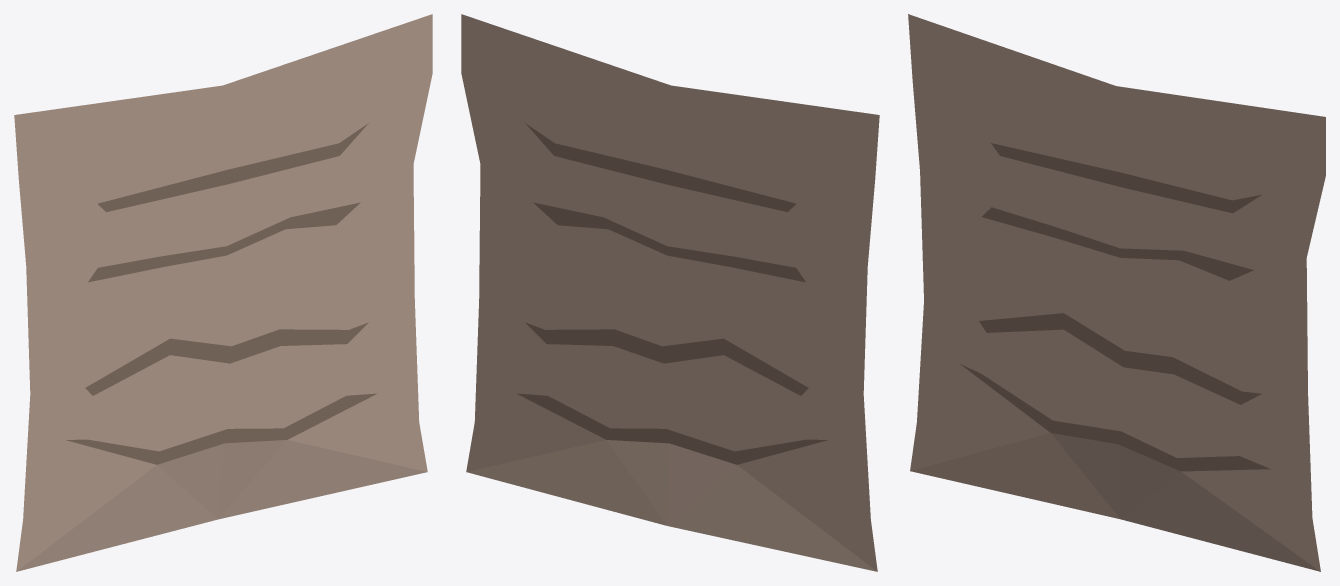
Rendered from SFHW_Paper_017.fbx.
3 renders of one model, left to right at view 1: azimuth 30°, elevation 25°; view 2: azimuth 150°, elevation 25°; view 3: azimuth 330°, elevation 25°, orthographic.
Parts seen in each view (by area): view 1: SFHW_Paper_017; view 2: SFHW_Paper_017; view 3: SFHW_Paper_017.
Boxes of the visible parts, x1=… form: SFHW_Paper_017: x1=14, y1=14, x2=432, y2=571; SFHW_Paper_017: x1=461, y1=14, x2=879, y2=571; SFHW_Paper_017: x1=908, y1=14, x2=1325, y2=571.
Bounding box in the file's own units: 6.92 × 7.25 × 0.1259.
